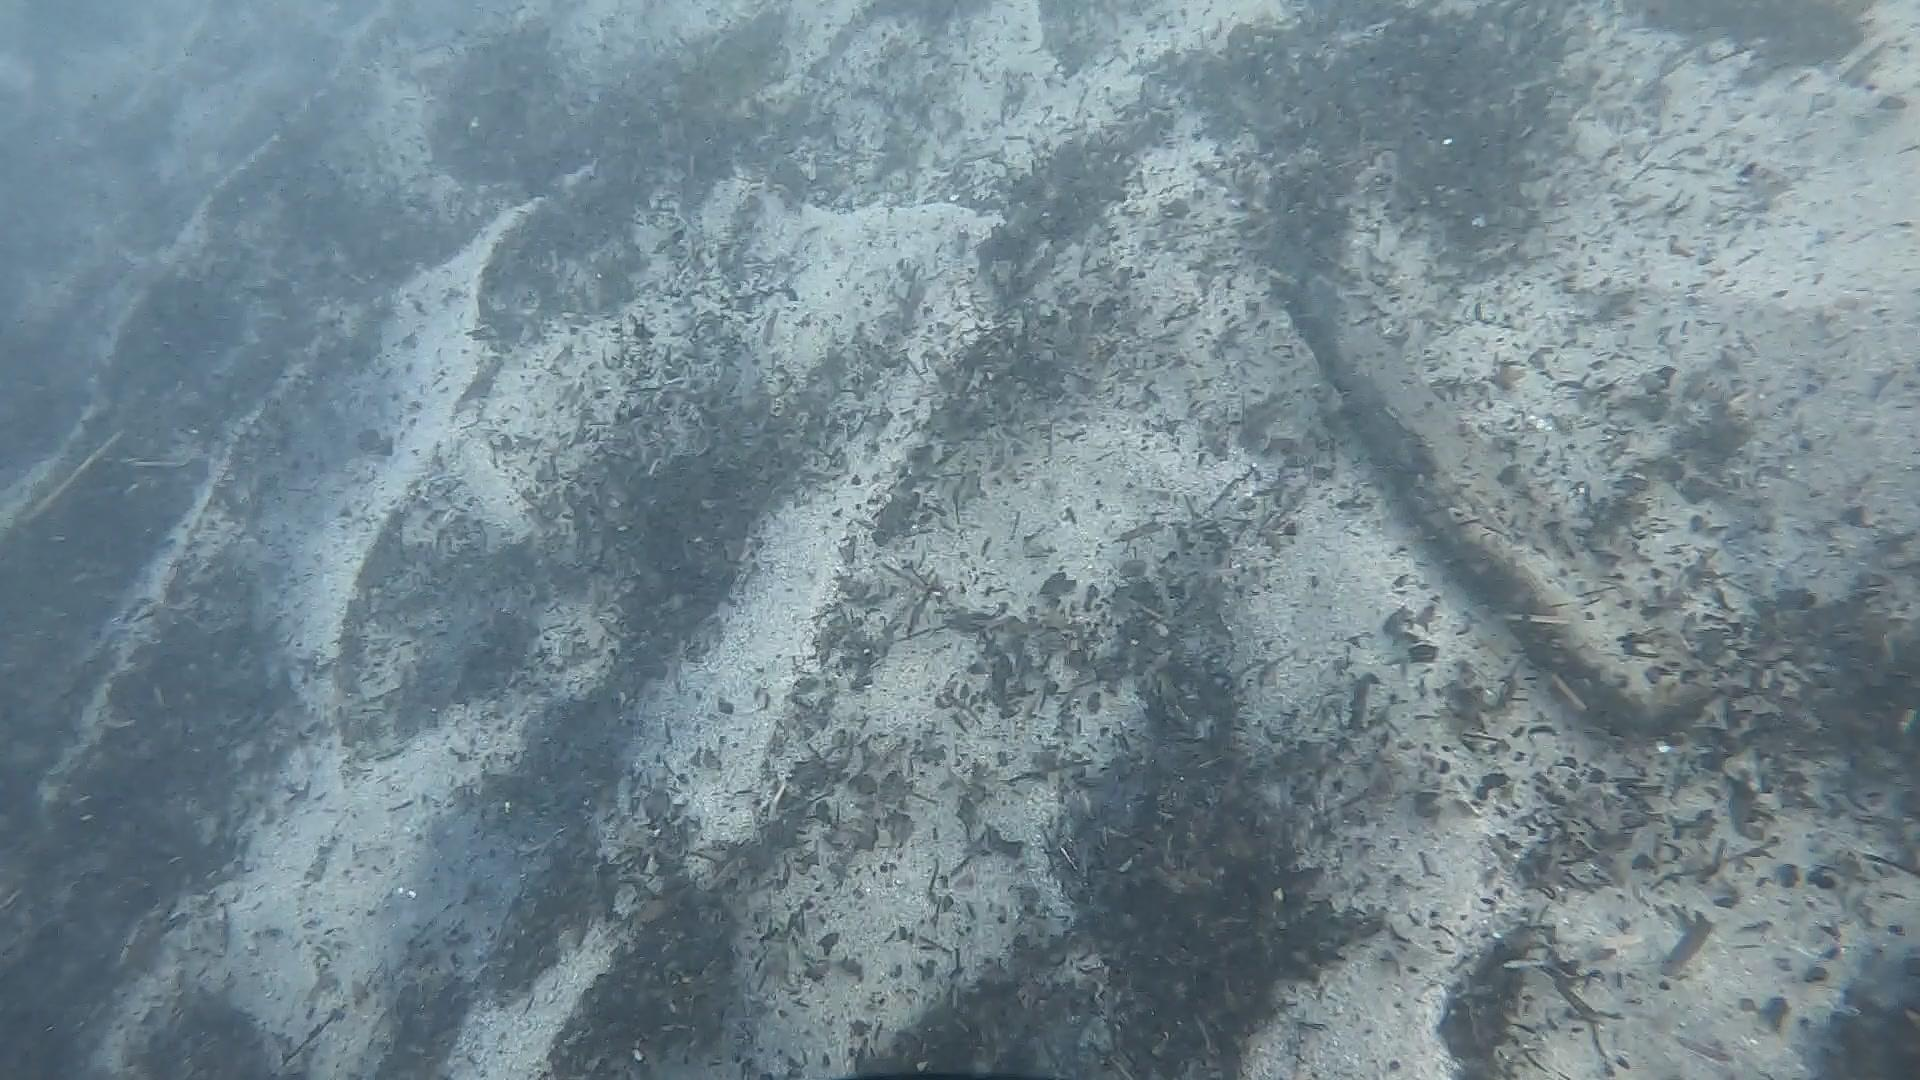wood: (1280, 277, 1663, 738)
